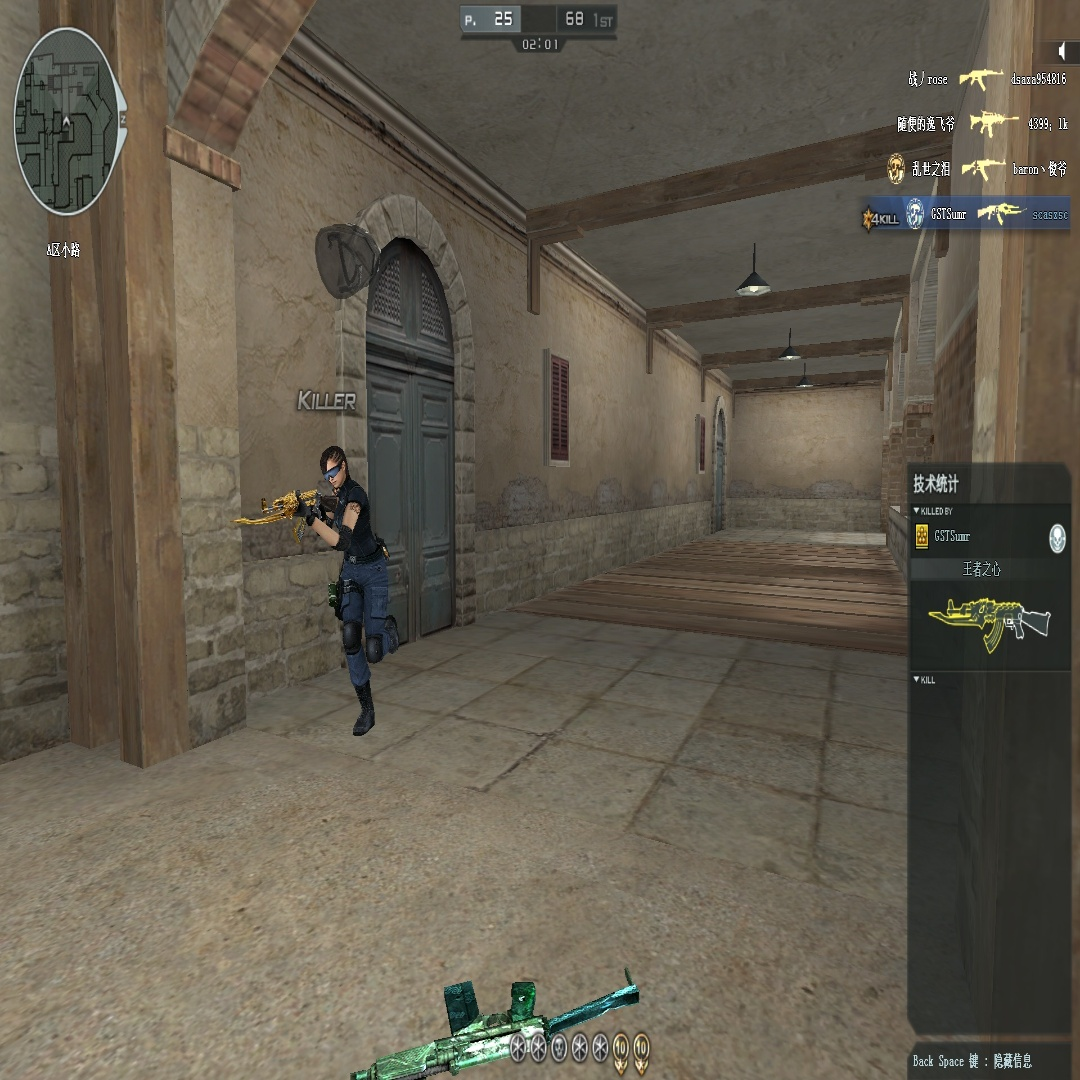head: (318, 445, 353, 494)
p: (300, 445, 386, 738)
